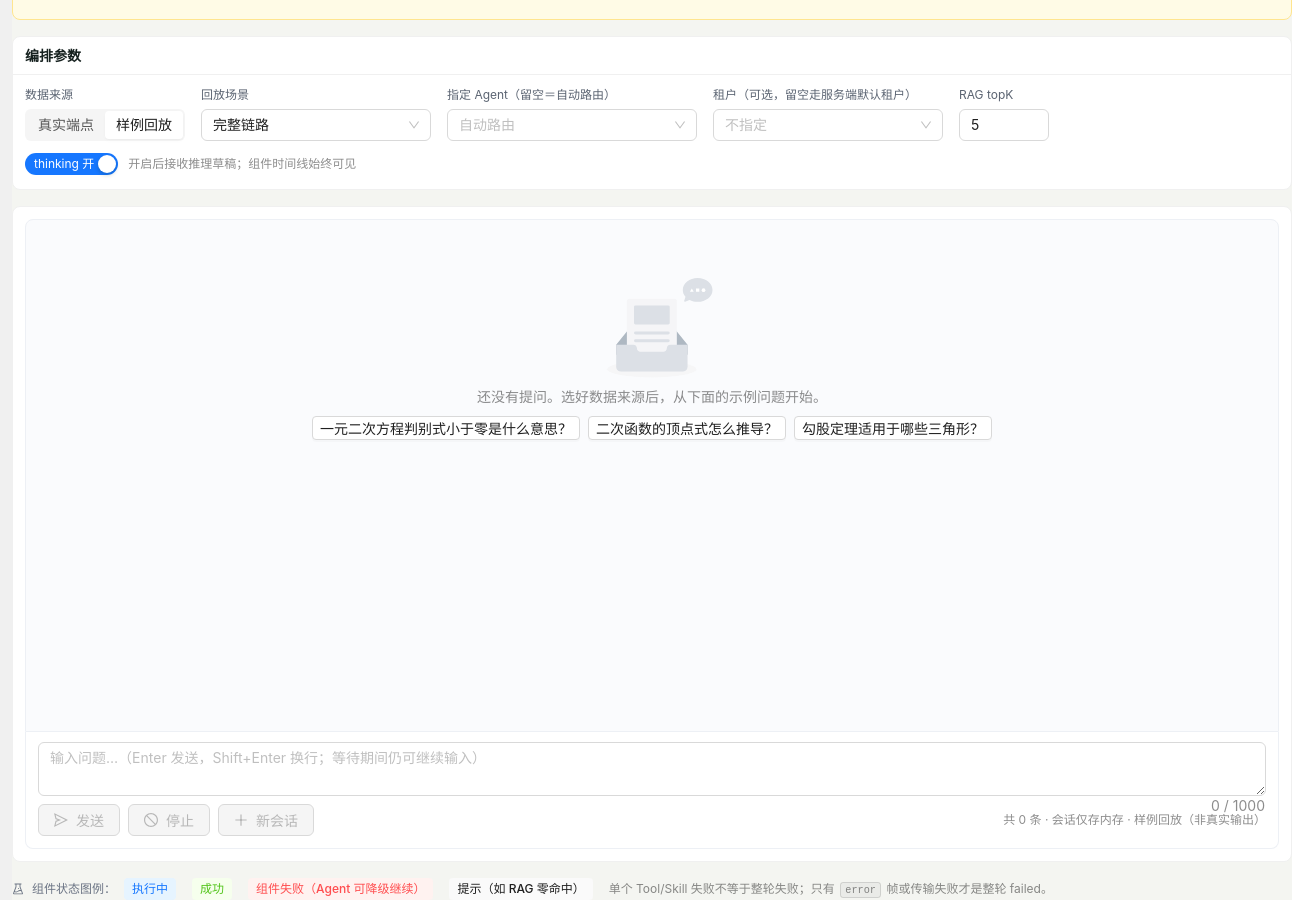
Test case: AgentChatPage · 样例回放闭环 › ✅ 默认样例模式醒目告警，完整链路的组件阶段全部可见且非真实输出
(page scrolled)
expect the button "发送" is disabled: met, box [38,804,120,836]
Type "判别式小于零是什么意思？" into the text box with placeholder "输入问题…（Enter 发送，Shift+Enter 换行；等待期间仍可继续输入）" at (652, 769), box [39,743,1265,795]
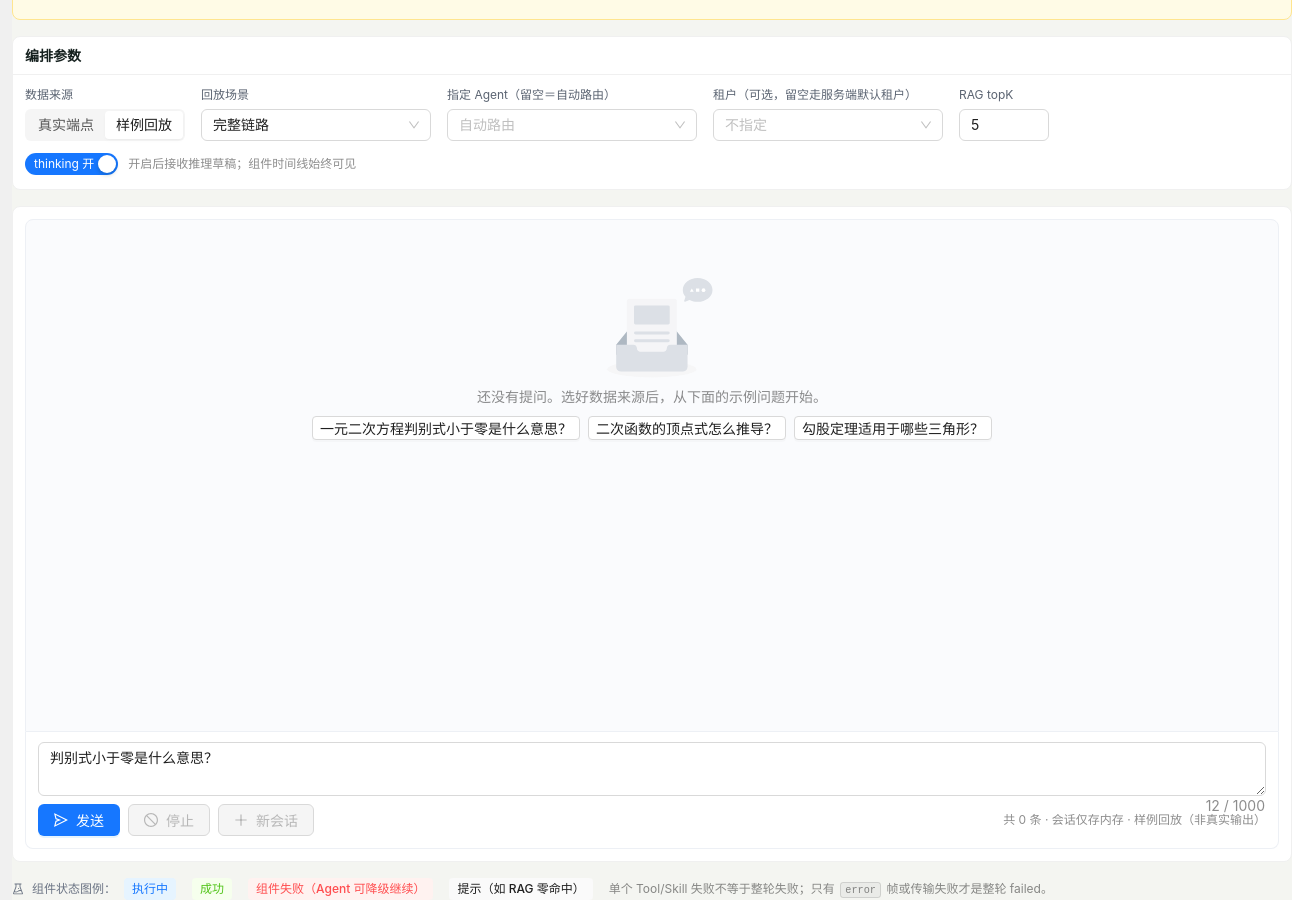
expect the button "发送" is enabled: met
Click the button "发送" at (79, 820), box [38,804,120,836]
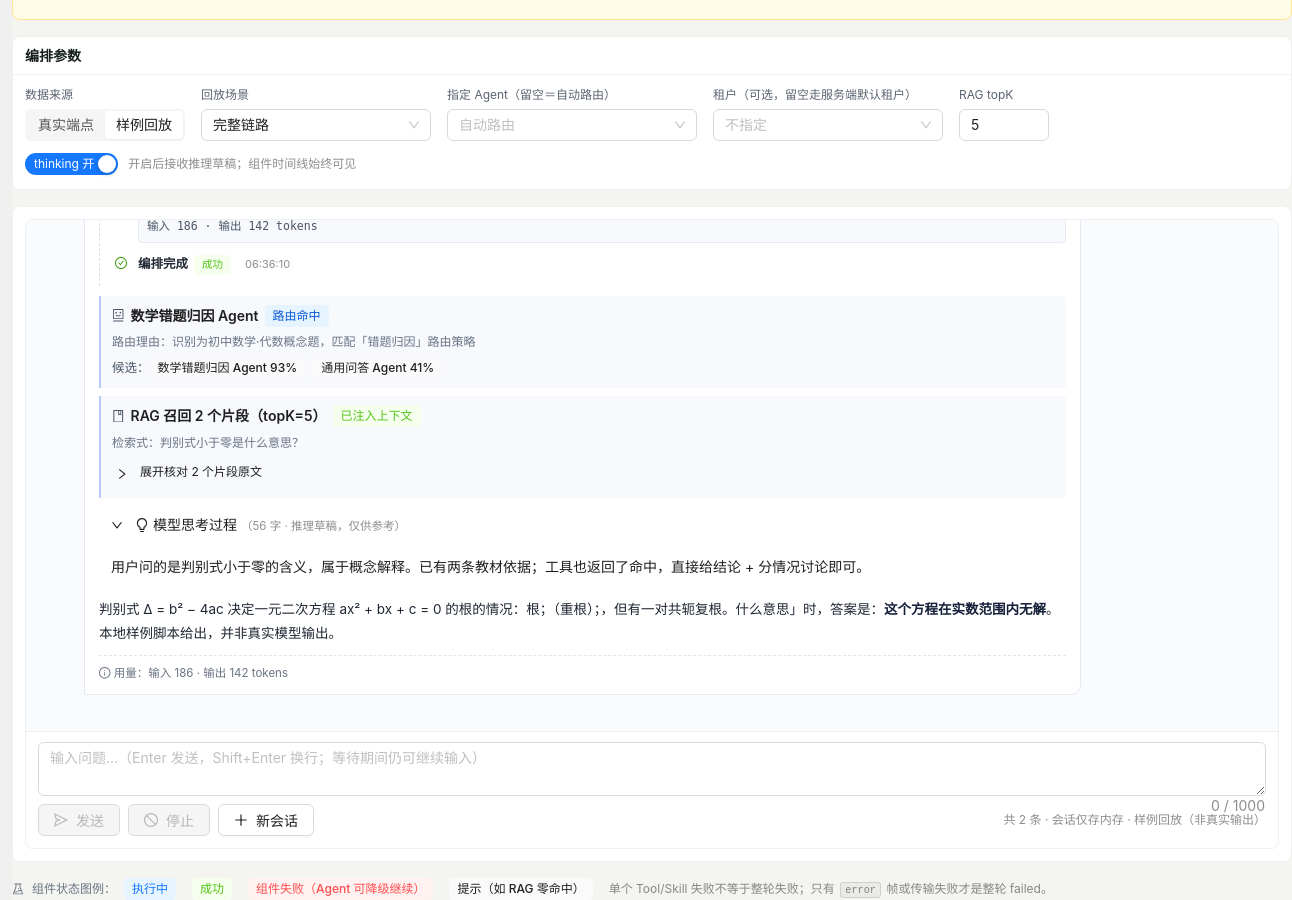
expect the element with test id "agent-chat-trace-step" shows "编排完成": met, box [138,256,188,271]
expect the element with test id "agent-chat-route" is shown: met, box [99,296,1066,388]
expect the element with test id "agent-chat-rag" is shown: met, box [99,396,1066,498]
